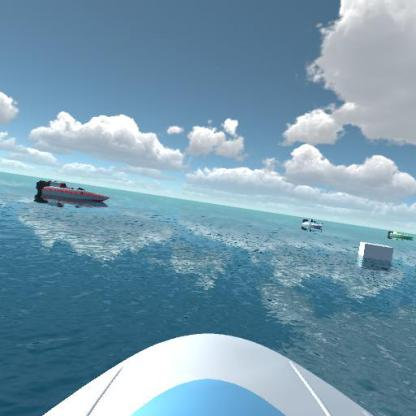usv0: (386, 225, 416, 247)
usv1: (297, 210, 326, 233)
usv3: (32, 177, 112, 211)
